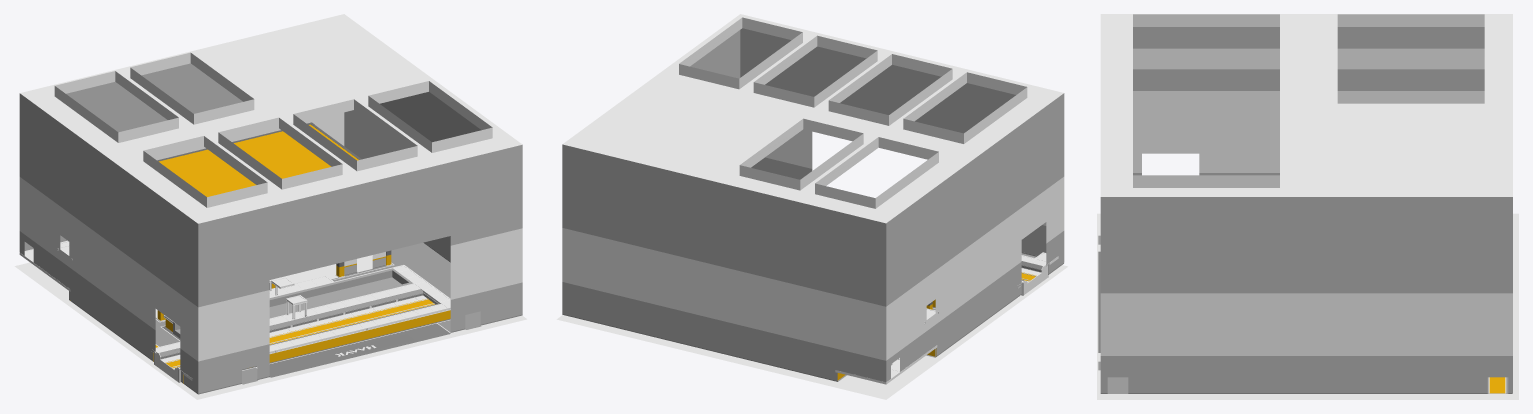
The picture shows the model from 3 angles, left to right: view 1: azimuth 30°, elevation 25°; view 2: azimuth 150°, elevation 25°; view 3: azimuth 270°, elevation 25°; orthographic projection. The views are drawn at different scales.
Visible parts, largest first — view 1: SM_H_Building_FutureTech_AssemblyArea_InterWall_01L; view 2: SM_H_Building_FutureTech_AssemblyArea_InterWall_01L; view 3: SM_H_Building_FutureTech_AssemblyArea_InterWall_01L.
Boxes of the visible parts, box(x1,y1,x2,y2) form: SM_H_Building_FutureTech_AssemblyArea_InterWall_01L: box(14, 14, 526, 399); SM_H_Building_FutureTech_AssemblyArea_InterWall_01L: box(556, 14, 1067, 399); SM_H_Building_FutureTech_AssemblyArea_InterWall_01L: box(1097, 14, 1518, 399).
Bounding box in the file's own units: 2123 × 2217 × 1187.
